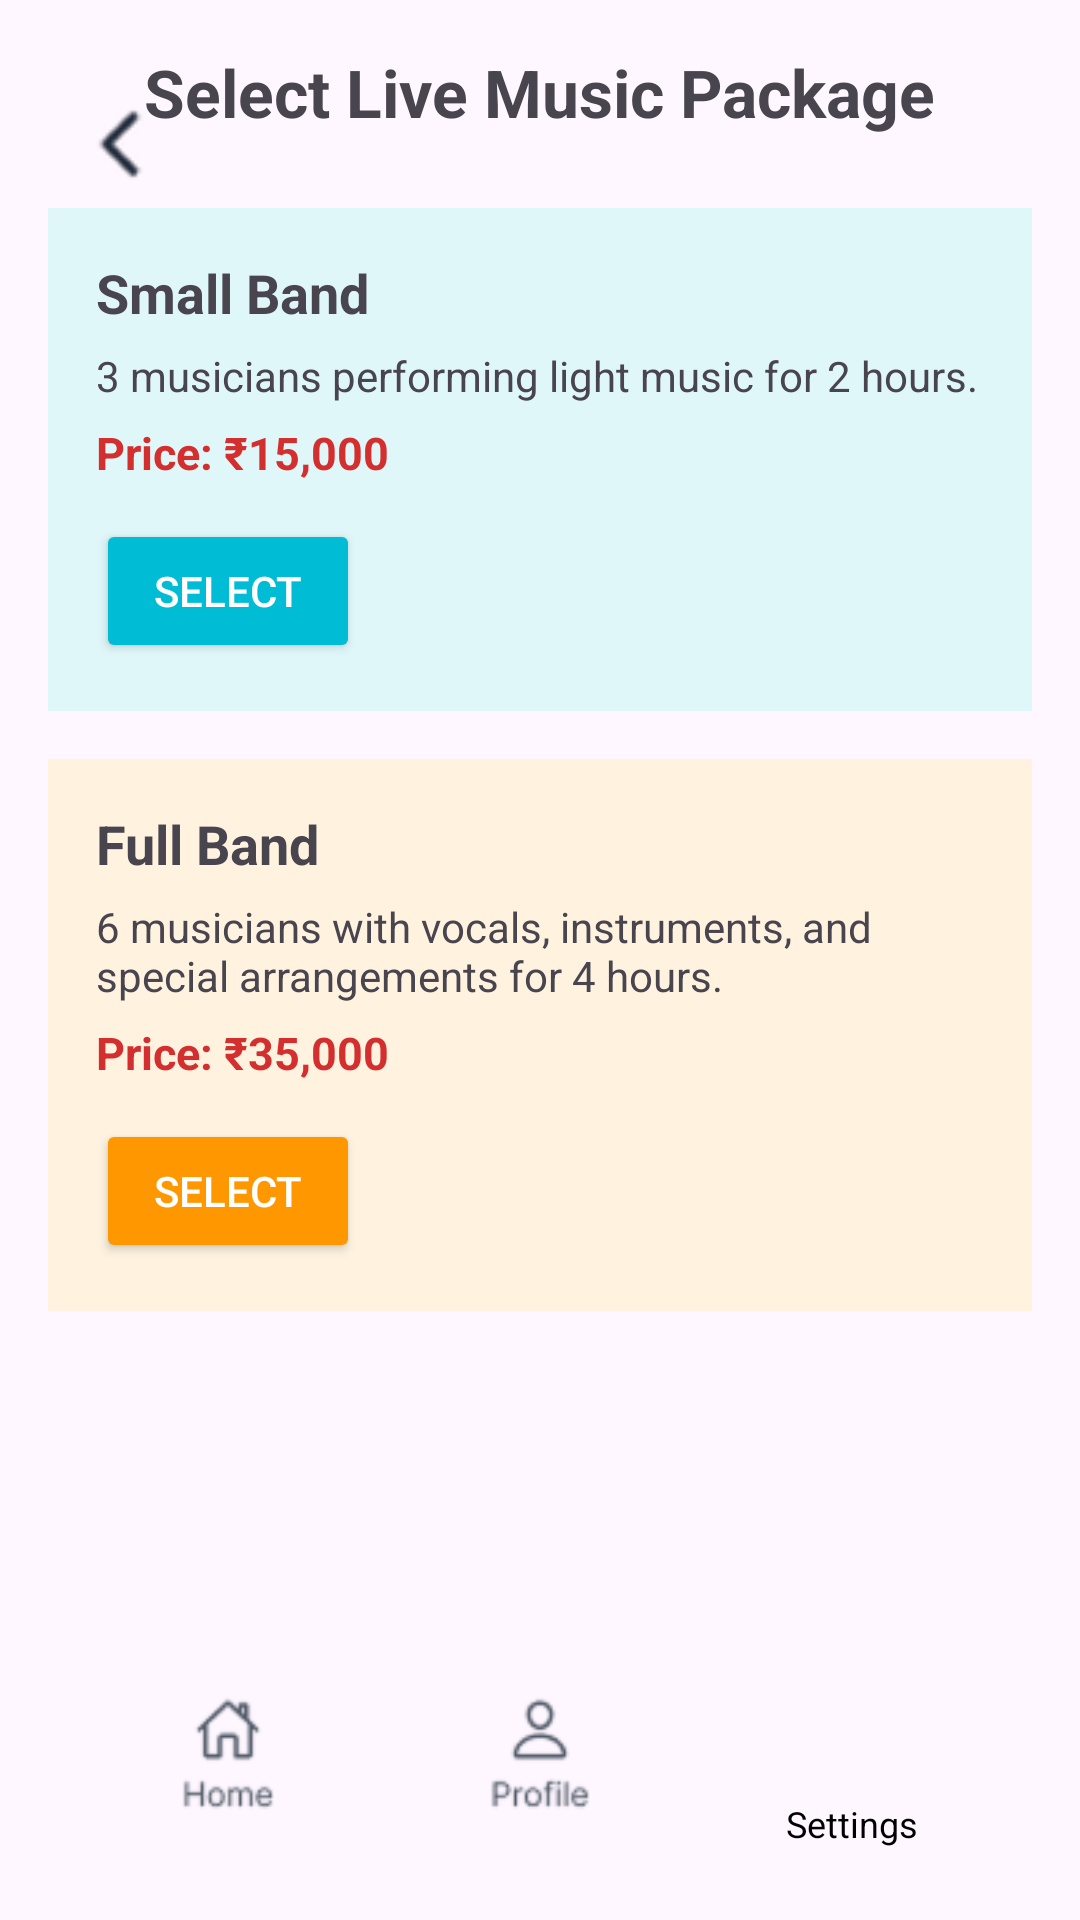

Locate icon controls on the screen. Image size 1080px x 1920px, boxes as (x1, y1, x2, y2).
Back: (99, 110, 141, 178)
